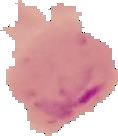parasitized: (26, 17, 105, 120)
